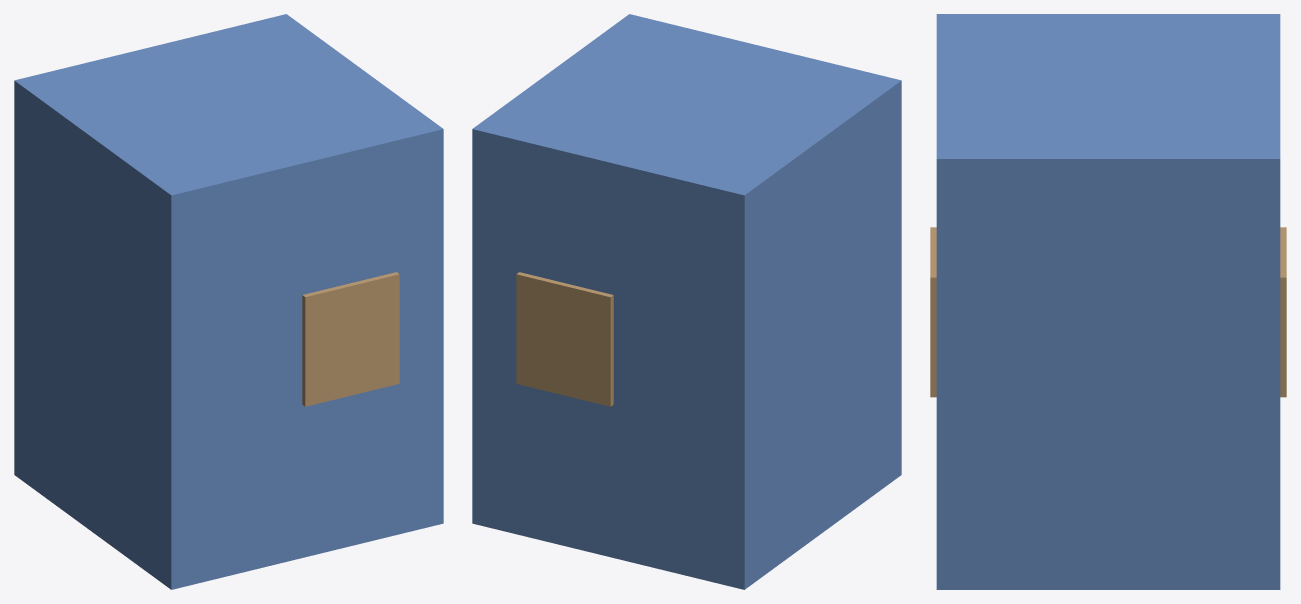
File: macacao_coxa.glb
The picture shows the model from 3 angles, left to right: view 1: azimuth 30°, elevation 25°; view 2: azimuth 150°, elevation 25°; view 3: azimuth 270°, elevation 25°; orthographic projection. The views are drawn at different scales.
Parts seen in each view (by area): view 1: macacao_coxa; view 2: macacao_coxa; view 3: macacao_coxa.
Boxes of the visible parts, x1,y1,x2,y2 form: macacao_coxa: (14, 14, 443, 589); macacao_coxa: (472, 14, 901, 589); macacao_coxa: (930, 14, 1286, 589).
Bounding box in the file's own units: 0.26 × 0.36 × 0.27.
